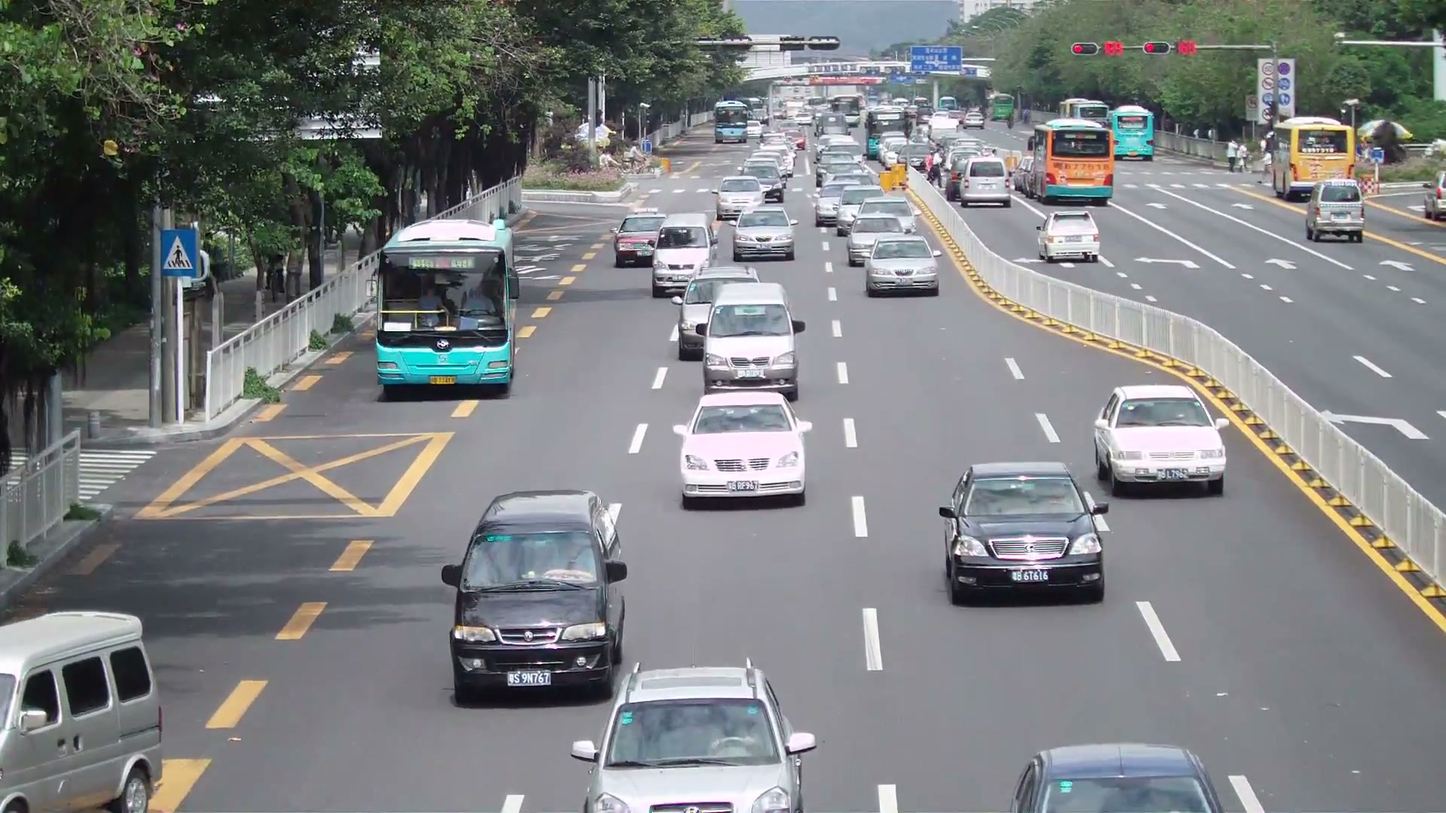bus: (375, 216, 519, 397), (1029, 117, 1116, 205), (1268, 114, 1356, 199), (1110, 105, 1156, 160)
car: (440, 489, 628, 705), (570, 662, 818, 811), (1, 608, 166, 812), (939, 460, 1111, 606), (674, 386, 810, 510), (1091, 383, 1228, 497), (1005, 744, 1225, 812), (699, 279, 802, 400), (672, 266, 760, 361), (862, 235, 940, 298), (846, 208, 919, 267), (1303, 178, 1366, 243), (733, 206, 796, 261), (1036, 211, 1102, 263), (614, 211, 666, 267), (714, 174, 765, 218)
pedestrian: (417, 274, 454, 318)
truck: (955, 154, 1012, 209)
